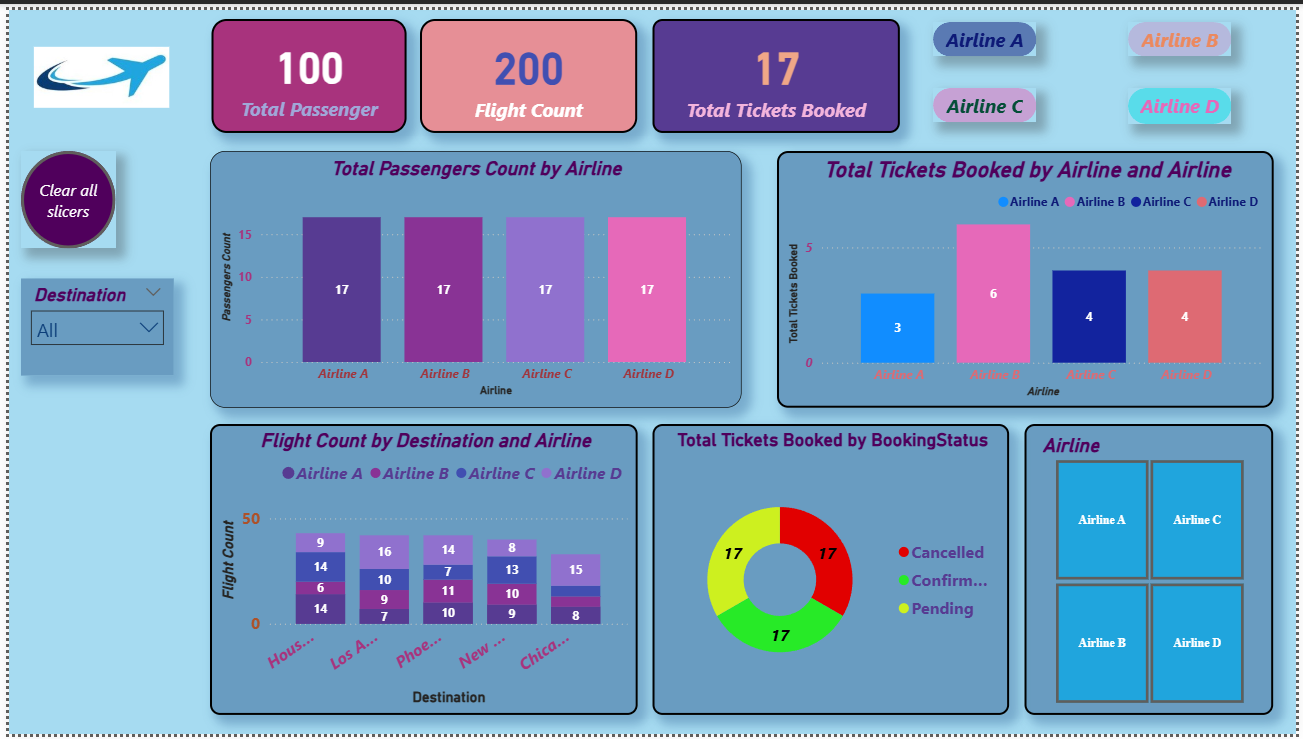

The page's visual inventory and layout, read from the dashboard file:
{"tool":"powerbi","page":{"name":"Dashboard","canvas":[1280,720],"ordinal":6},"visuals":[{"type":"donutChart","fields":{"Category":["ticket_information.BookingStatus"],"Y":["Measure.Total Tickets Booked"]},"box":[640,411.1,354.4,289.6],"z":0},{"type":"columnChart","fields":{"Category":["flight_information.Destination"],"Y":["Measure.Flight Count"],"Series":["flight_information.Airline"]},"box":[200.5,411.1,425.3,289.6],"z":1000},{"type":"columnChart","title":"Total Passengers Count by Airline","fields":{"Category":["flight_information.Airline"],"Y":["Measure.Total Passengers (Specific Flight)"]},"box":[200.5,139.7,528.6,255.2],"z":2000},{"type":"slicer","fields":{"Values":["flight_information.Destination"]},"box":[11.9,267,152.2,97],"z":3000},{"type":"actionButton","box":[11.9,140.2,94,97],"z":4000},{"type":"actionButton","box":[918.9,11.9,102.9,34.3],"z":5000},{"type":"actionButton","box":[1112.8,11.9,102.9,34.3],"z":6000},{"type":"actionButton","box":[918.9,77.6,102.9,34.3],"z":7000},{"type":"actionButton","box":[1112.8,77.6,102.9,35.8],"z":8000},{"type":"slicer","fields":{"Values":["flight_information.Airline"]},"box":[1010.6,411.1,247.1,289.6],"z":9000},{"type":"columnChart","fields":{"Category":["flight_information.Airline"],"Y":["Measure.Total Tickets Booked"],"Series":["flight_information.Airline"]},"box":[763.5,139.7,494.2,255.2],"z":10000},{"type":"card","fields":{"Values":["Measure.Total Passenger"]},"box":[201.4,9,193.9,113.4],"z":11000},{"type":"card","fields":{"Values":["Measure.Flight Count"]},"box":[408.7,9,216.3,113.4],"z":12000},{"type":"card","fields":{"Values":["Measure.Total Tickets Booked"]},"box":[640,9,246.1,113.4],"z":13000},{"type":"image","box":[19.4,11.9,144.7,110.4],"z":14000}]}

Visuals, with their boxes in screenshot pixels (x1, y1, x2, y2), scaled from the page's 1280x720 canvas onto the 1303x739 screenshot:
donutChart - ticket_information.BookingStatus x Measure.Total Tickets Booked: {"left": 652, "top": 422, "right": 1012, "bottom": 719}
columnChart - flight_information.Destination x Measure.Flight Count: {"left": 204, "top": 422, "right": 637, "bottom": 719}
"Total Passengers Count by Airline" columnChart: {"left": 204, "top": 143, "right": 742, "bottom": 405}
slicer - flight_information.Destination: {"left": 12, "top": 274, "right": 167, "bottom": 374}
actionButton: {"left": 12, "top": 144, "right": 108, "bottom": 243}
actionButton: {"left": 935, "top": 12, "right": 1040, "bottom": 47}
actionButton: {"left": 1133, "top": 12, "right": 1238, "bottom": 47}
actionButton: {"left": 935, "top": 80, "right": 1040, "bottom": 115}
actionButton: {"left": 1133, "top": 80, "right": 1238, "bottom": 116}
slicer - flight_information.Airline: {"left": 1029, "top": 422, "right": 1280, "bottom": 719}
columnChart - flight_information.Airline x Measure.Total Tickets Booked: {"left": 777, "top": 143, "right": 1280, "bottom": 405}
card - Measure.Total Passenger: {"left": 205, "top": 9, "right": 402, "bottom": 126}
card - Measure.Flight Count: {"left": 416, "top": 9, "right": 636, "bottom": 126}
card - Measure.Total Tickets Booked: {"left": 652, "top": 9, "right": 902, "bottom": 126}
image: {"left": 20, "top": 12, "right": 167, "bottom": 126}
